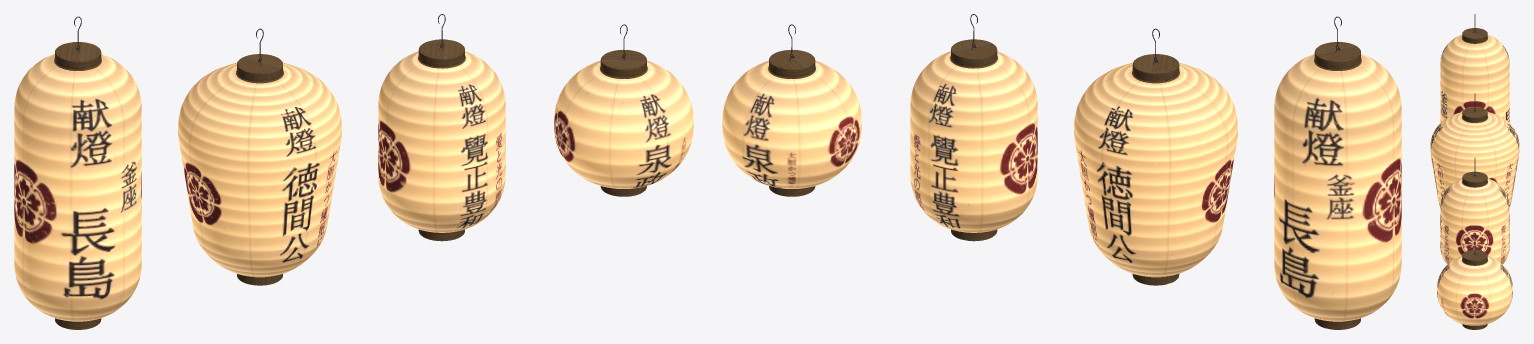
The model's file is farolillos_opt.glb.
3 views of the same model, side by side, from view 1: azimuth 30°, elevation 25°; view 2: azimuth 150°, elevation 25°; view 3: azimuth 270°, elevation 25° (orthographic). The views are drawn at different scales.
Visible parts, largest first — view 1: paper lantern1_lantern_0; view 2: paper lantern1_lantern_0; view 3: paper lantern1_lantern_0.
Boxes of the visible parts, x1,y1,x2,y2 form: paper lantern1_lantern_0: (14,14,693,329); paper lantern1_lantern_0: (722,14,1401,329); paper lantern1_lantern_0: (1430,14,1519,329).
Size of the model in its own units: 71469 by 31375 by 15372.
1 material, 1 textured.
